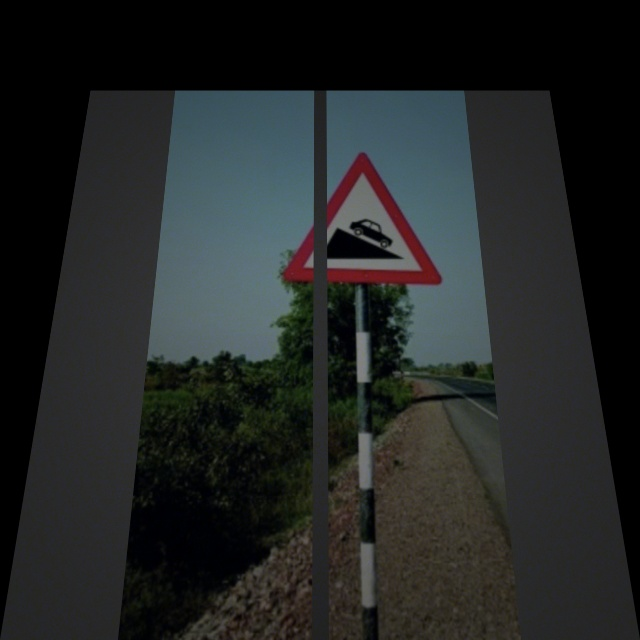Steep_Descent: (287, 152, 441, 287)
